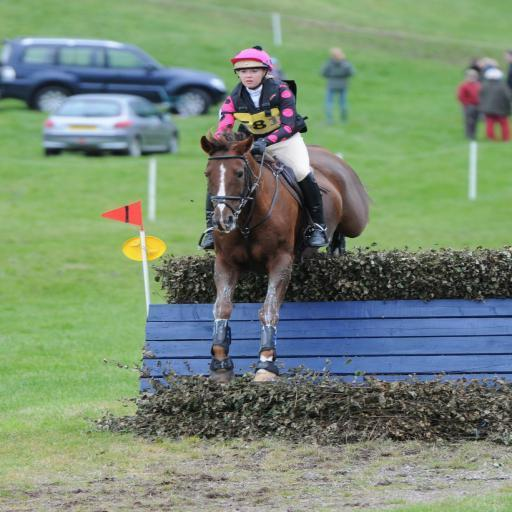horse: (197, 129, 368, 387)
